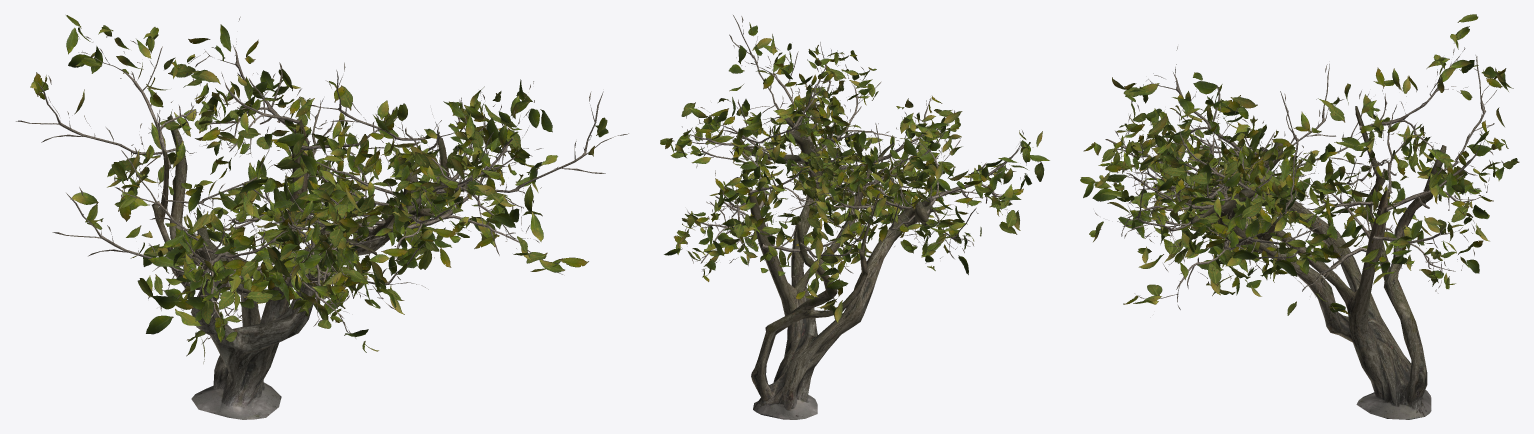
Rendered from island_tree_02.glb.
3 views of the same model, side by side, from view 1: azimuth 30°, elevation 25°; view 2: azimuth 150°, elevation 25°; view 3: azimuth 270°, elevation 25° (orthographic). The views are drawn at different scales.
Visible parts, largest first — view 1: island_tree_02_LOD0; view 2: island_tree_02_LOD0; view 3: island_tree_02_LOD0.
Part boxes in pixels (left/top/right/bottom): island_tree_02_LOD0: left=16, top=15, right=628, bottom=419; island_tree_02_LOD0: left=660, top=15, right=1049, bottom=419; island_tree_02_LOD0: left=1080, top=14, right=1519, bottom=419.
Bounding box in the file's own units: 4.21 × 3.42 × 4.07.
Materials: 3 (3 with a texture image).
